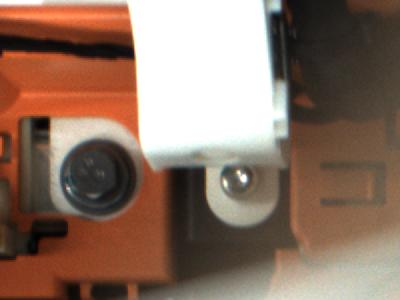nut_b: (53, 145, 135, 210)
